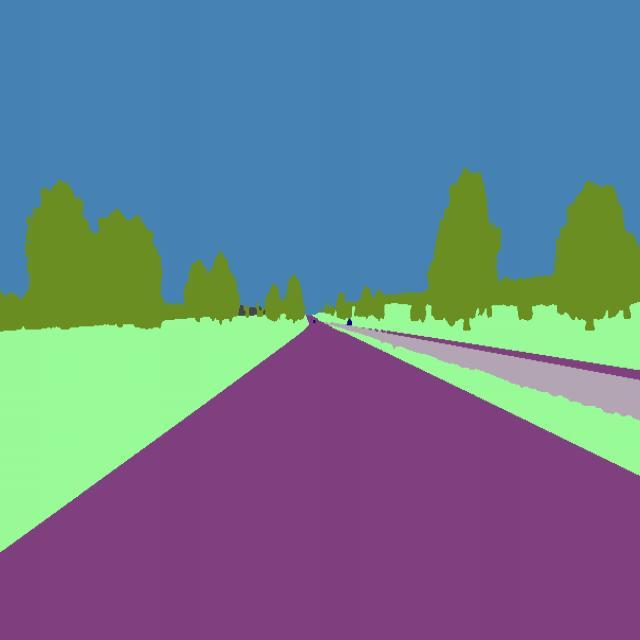safe: (344, 316, 354, 330)
